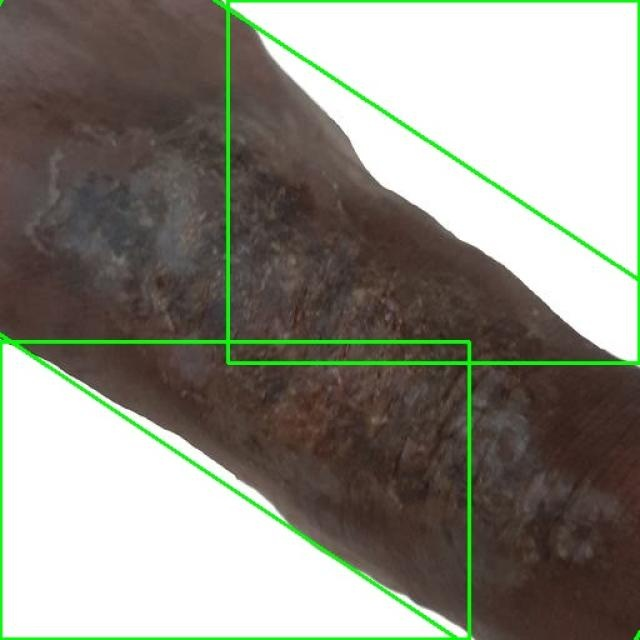Contact Dermatitis: (0, 0, 640, 640), (228, 0, 639, 362), (0, 341, 469, 639)
